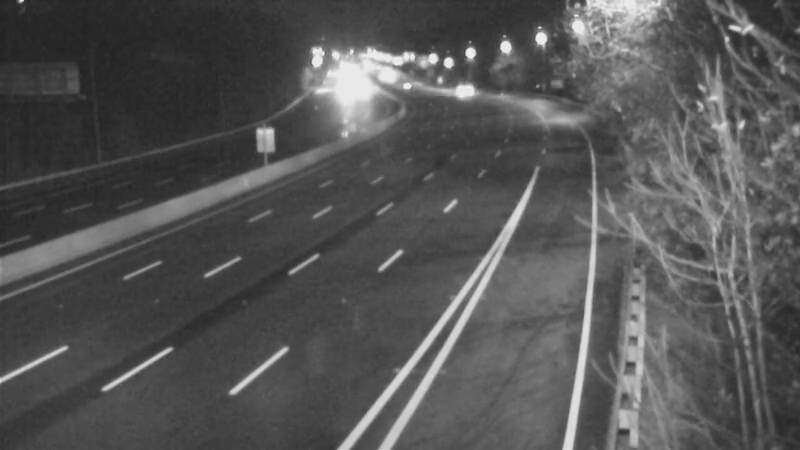vehicle: (380, 58, 430, 108), (439, 66, 489, 116)
